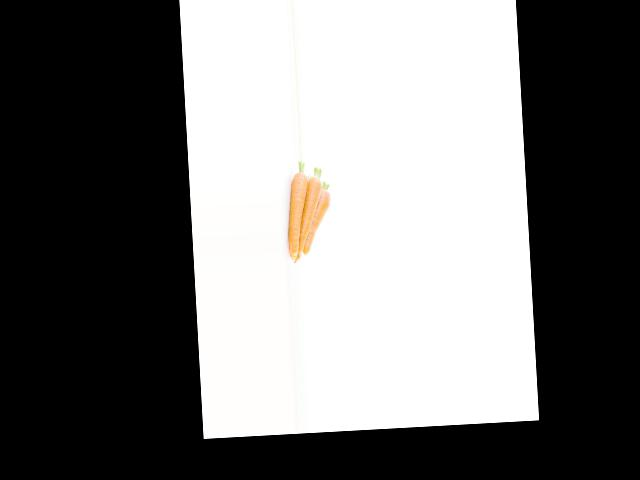carrot: (285, 166, 309, 259)
